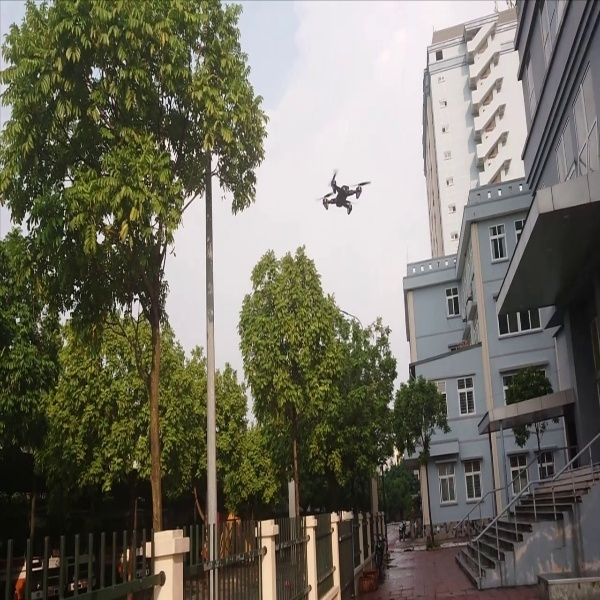drone: (314, 165, 375, 225)
